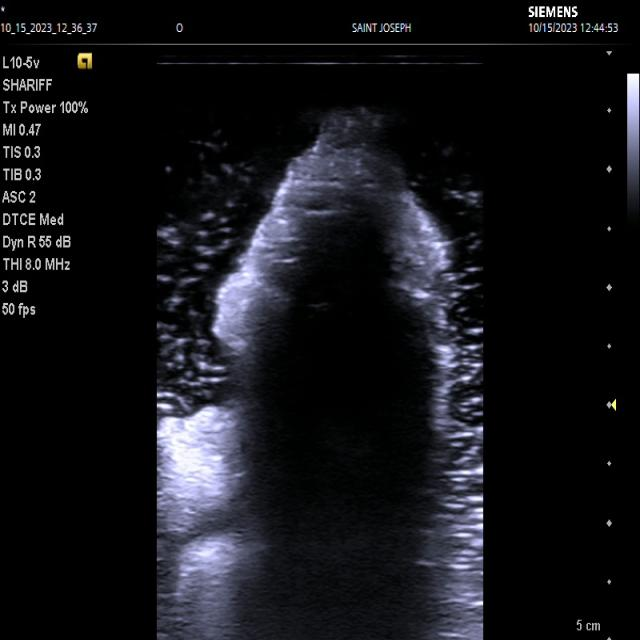tissue: (157, 115, 462, 640)
